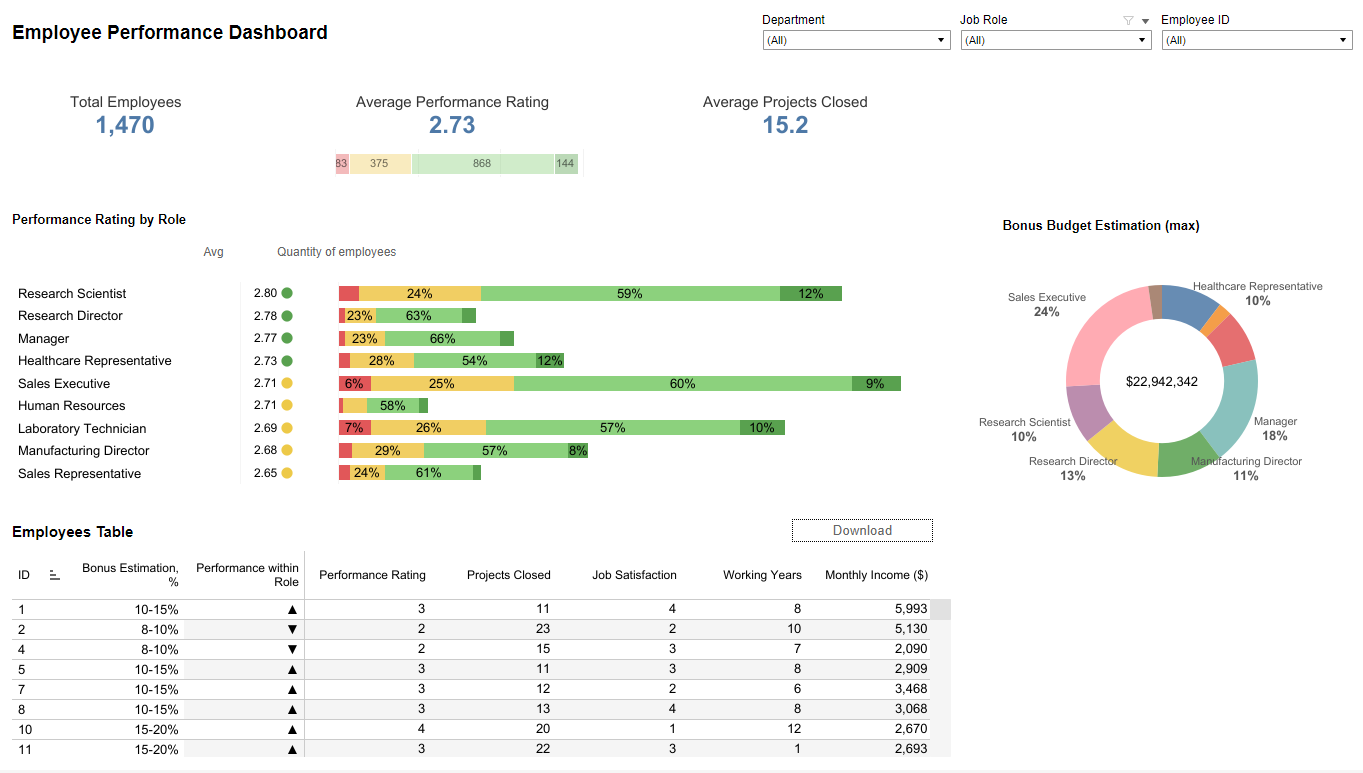

Layout of this report page (visuals, bound fields, positions):
{"tool":"tableau","page":{"name":"Employee Performance Dashboard (2)","canvas":[1366,768],"ordinal":1},"visuals":[{"type":"text","box":[8,8,435,55]},{"type":"blank","box":[443,8,315,55]},{"type":"filter","title":"Employees Table","param":"[federated.1kei78i07cmt7l1ckeuk00dkz0md].[none:Department:nk]","box":[758,8,198,55]},{"type":"filter","title":"Employees Table","param":"[federated.1kei78i07cmt7l1ckeuk00dkz0md].[none:JobRole:nk]","box":[956,8,201,55]},{"type":"filter","title":"Employees Table","param":"[federated.1kei78i07cmt7l1ckeuk00dkz0md].[none:EmployeeNumber:ok]","box":[1157,8,201,55]},{"type":"worksheet","title":"Total employees","mark":"Automatic","box":[8,88,236,60]},{"type":"blank","box":[244,88,80,60]},{"type":"worksheet","title":"Performance Rating AVG","mark":"Automatic","box":[324,88,258,60]},{"type":"blank","box":[582,88,80,60]},{"type":"worksheet","title":"Projects Closed AVG","mark":"Automatic","box":[662,88,248,60]},{"type":"blank","box":[910,88,448,60]},{"type":"blank","box":[8,148,322.6,32]},{"type":"worksheet","title":"Perf.Rating Total Count (2)","mark":"Bar","cols":["EmployeeCount"],"box":[330.6,148,263.4,32]},{"type":"blank","box":[594,148,382,32]},{"type":"blank","box":[976,148,382,32]},{"type":"blank","box":[8,180,1350,25]},{"type":"text","box":[8,205,804.2,54]},{"type":"blank","box":[812.2,205,32,72]},{"type":"text","box":[844.2,205,513.8,72]},{"type":"worksheet","title":"PerfRating / jobs","mark":"Circle","rows":["JobRole"],"cols":["Calculation_2072781762820960260"],"box":[8,277,326,210]},{"type":"worksheet","title":"PerfRating / jobs (5)","mark":"Bar","rows":["JobRole"],"cols":["EmployeeCount"],"box":[334,277,600,210]},{"type":"worksheet","title":"Bonus Budget","mark":"Pie","rows":["Calculation_1574289570308923414","Calculation_1574289570308956184"],"box":[966,277,392,210]},{"type":"blank","box":[8,487,1350,25]},{"type":"text","box":[8,512,675,38]},{"type":"blank","box":[683,512,105,38]},{"type":"dashboard-object","box":[788,512,149,38]},{"type":"blank","box":[1151,512,207,38]},{"type":"worksheet","title":"Employees Table","mark":"Automatic","rows":["EmployeeNumber","Calculation_1574289570234228750","Calculation_1574289570290565140"],"box":[8,550,947,210]},{"type":"blank","box":[955,550,403,66]},{"type":"blank","box":[955,616,107,30]},{"type":"blank","box":[1062,616,296,30]},{"type":"blank","box":[955,646,107,63]},{"type":"blank","box":[1062,646,296,63]}]}

Visuals, with their boxes in screenshot pixels (x1, y1, x2, y2), scaled from the page's 1366x768 canvas onto the 1363x773 screenshot:
text: 8,8,442,63
blank: 442,8,756,63
"Employees Table" filter: 756,8,954,63
"Employees Table" filter: 954,8,1154,63
"Employees Table" filter: 1154,8,1355,63
"Total employees" worksheet: 8,89,243,149
blank: 243,89,323,149
"Performance Rating AVG" worksheet: 323,89,581,149
blank: 581,89,661,149
"Projects Closed AVG" worksheet: 661,89,908,149
blank: 908,89,1355,149
blank: 8,149,330,181
"Perf.Rating Total Count (2)" worksheet (Bar marks): 330,149,593,181
blank: 593,149,974,181
blank: 974,149,1355,181
blank: 8,181,1355,206
text: 8,206,810,261
blank: 810,206,842,279
text: 842,206,1355,279
"PerfRating / jobs" worksheet (Circle marks): 8,279,333,490
"PerfRating / jobs (5)" worksheet (Bar marks): 333,279,932,490
"Bonus Budget" worksheet (Pie marks): 964,279,1355,490
blank: 8,490,1355,515
text: 8,515,682,554
blank: 682,515,786,554
dashboard-object: 786,515,935,554
blank: 1148,515,1355,554
"Employees Table" worksheet: 8,554,953,765
blank: 953,554,1355,620
blank: 953,620,1060,650
blank: 1060,620,1355,650
blank: 953,650,1060,714
blank: 1060,650,1355,714
